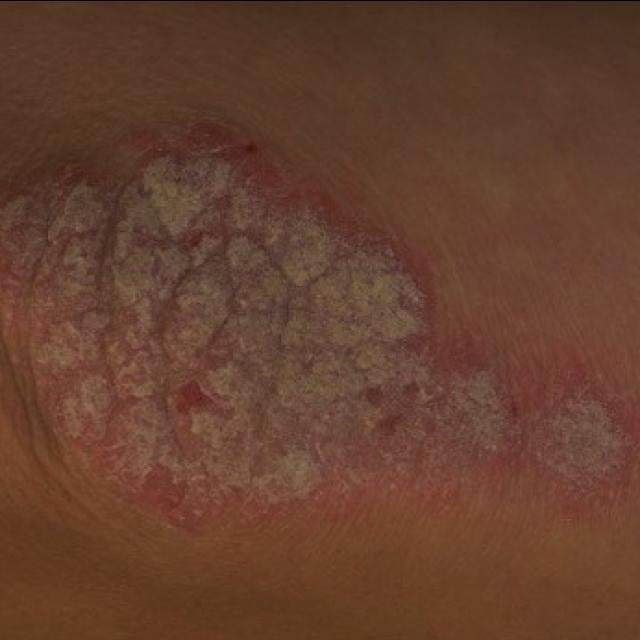Psoriasis: (0, 94, 638, 556)
